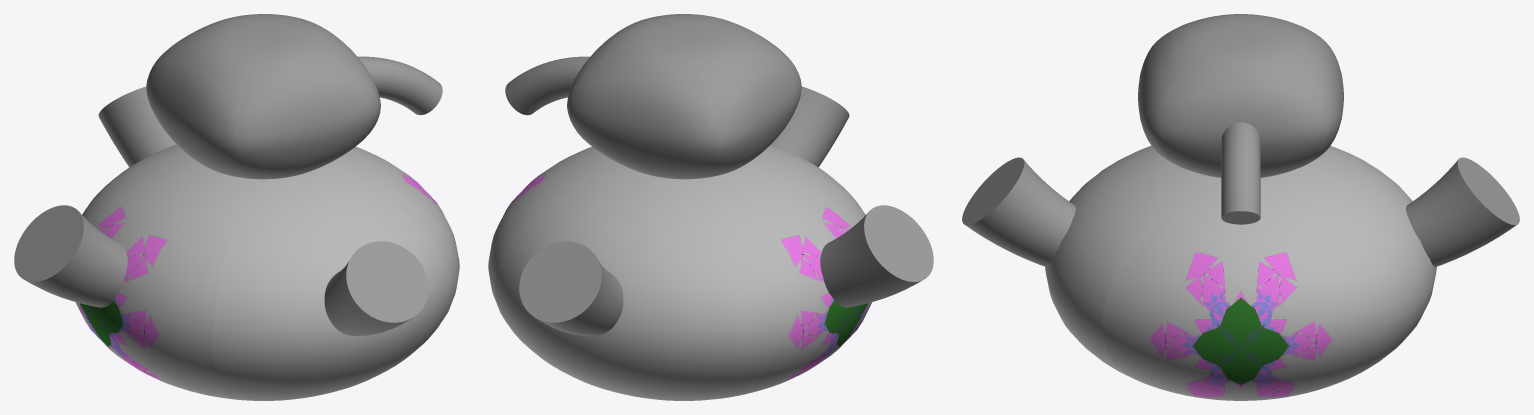
The picture shows the model from 3 angles, left to right: view 1: azimuth 30°, elevation 25°; view 2: azimuth 150°, elevation 25°; view 3: azimuth 270°, elevation 25°; orthographic projection.
Visible parts, largest first — view 1: Box001, Box002, Cone004, Cone002, Cone003, Cone001; view 2: Box001, Box002, Cone004, Cone003, Cone002, Cone001; view 3: Box001, Box002, Cone003, Cone002, Cone001.
Boxes of the visible parts, x1,y1,x2,y2 form: Box001: (75,144,459,400); Box002: (146,14,380,179); Cone004: (14,205,127,307); Cone002: (324,241,428,336); Cone003: (98,86,176,167); Cone001: (358,56,442,115); Box001: (488,145,872,400); Box002: (567,14,801,179); Cone004: (820,205,933,307); Cone003: (519,241,623,336); Cone002: (771,86,849,167); Cone001: (505,56,589,115); Box001: (1045,145,1436,400); Box002: (1138,14,1343,177); Cone003: (1406,157,1519,267); Cone002: (962,157,1075,267); Cone001: (1221,122,1260,224).
Size of the model in its own units: 49.11 by 38.19 by 56.88.
2 materials, 1 textured.
